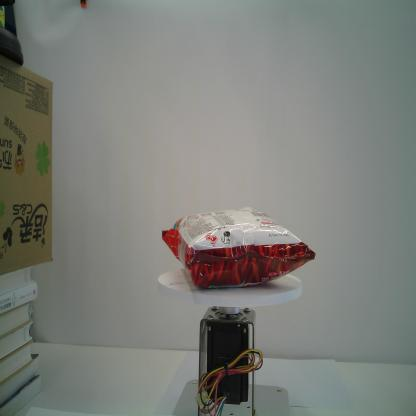Puffed Food: (160, 206, 316, 291)
